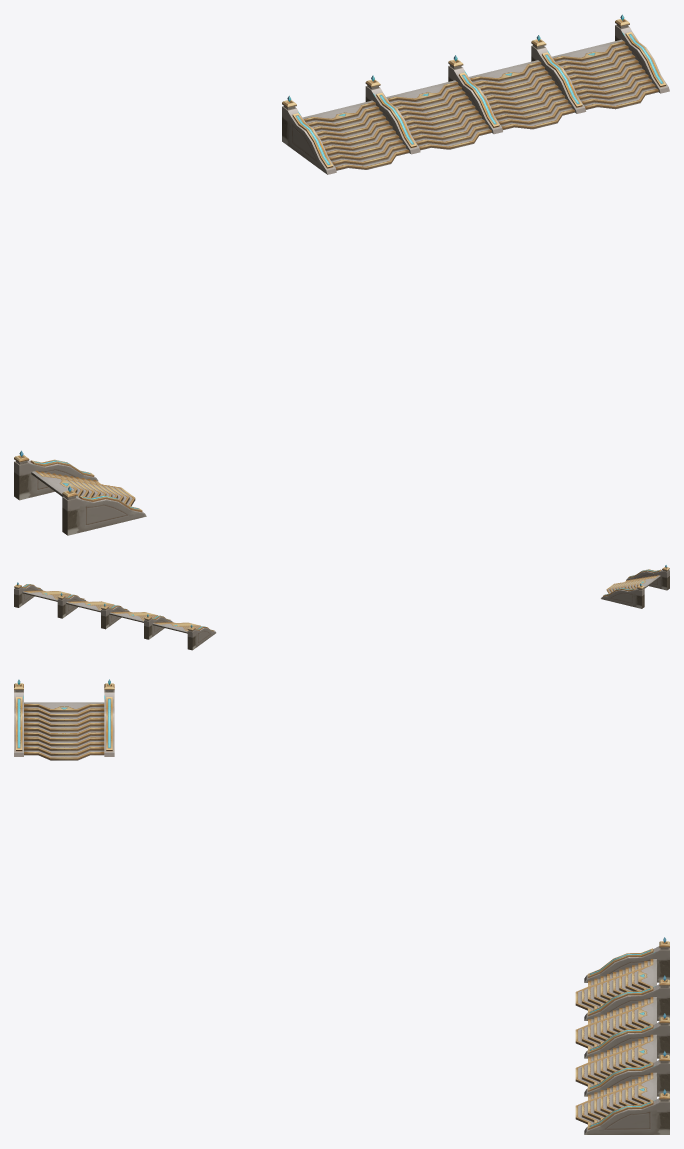
The model's file is zhucheng_shanglouti.FBX.
The picture shows the model from 3 angles, top to bottom: view 1: azimuth 30°, elevation 25°; view 2: azimuth 150°, elevation 25°; view 3: azimuth 270°, elevation 25°; orthographic projection. The views are drawn at different scales.
Visible parts, largest first — view 1: 对象269; view 2: 对象269; view 3: 对象269.
Part boxes in pixels (bbox=[...]): 对象269: bbox=[14, 14, 669, 535]; 对象269: bbox=[14, 565, 669, 650]; 对象269: bbox=[14, 679, 669, 1134].
Bounding box in the file's own units: 5213 × 258 × 3490.
